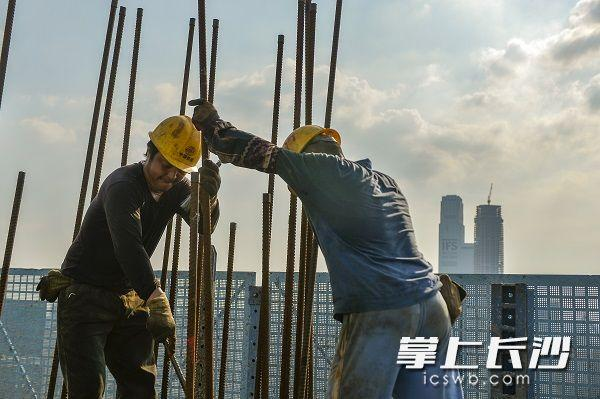helmet: (271, 121, 344, 194), (151, 115, 203, 171)
